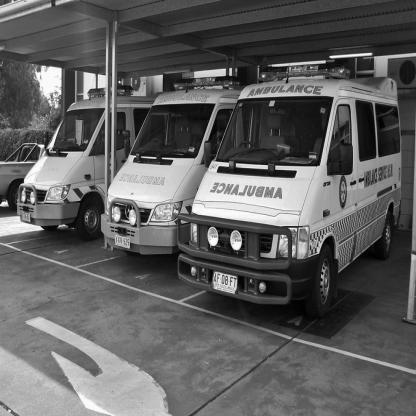ambulance: (183, 70, 416, 330), (102, 87, 207, 264), (17, 95, 119, 240)
